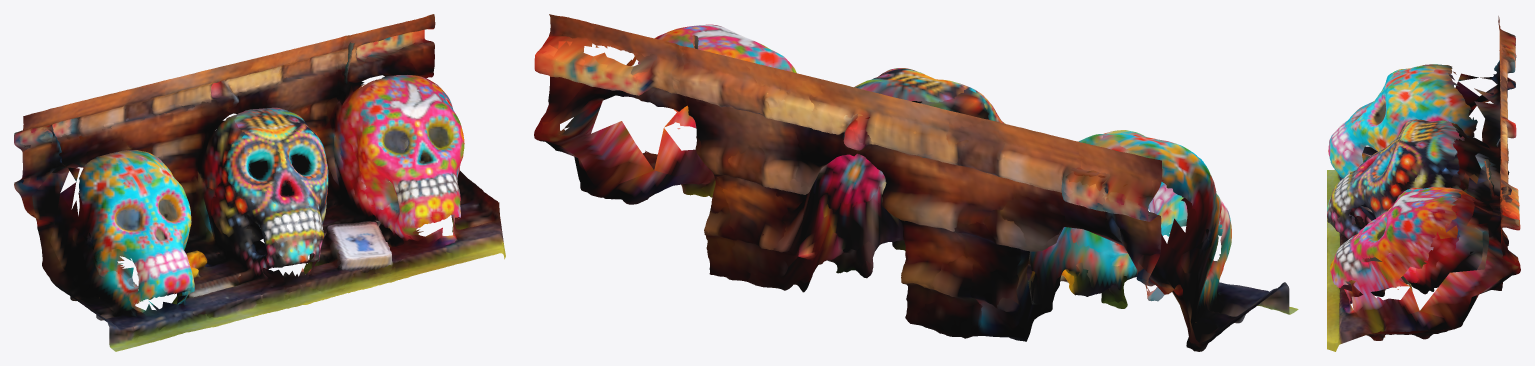
The model's file is calaveras.glb.
The picture shows the model from 3 angles, left to right: view 1: azimuth 30°, elevation 25°; view 2: azimuth 150°, elevation 25°; view 3: azimuth 270°, elevation 25°; orthographic projection. The views are drawn at different scales.
Parts seen in each view (by area): view 1: Object_3, Object_2, Object_4; view 2: Object_3, Object_2, Object_4; view 3: Object_3, Object_2, Object_4.
Boxes of the visible parts, box(x1,y1,x2,y2) form: Object_3: box(14, 16, 502, 350); Object_2: box(14, 14, 505, 351); Object_4: box(276, 36, 391, 282); Object_3: box(534, 16, 1295, 351); Object_2: box(534, 14, 1298, 347); Object_4: box(679, 46, 773, 119); Object_3: box(1327, 16, 1520, 342); Object_2: box(1327, 36, 1520, 351); Object_4: box(1500, 143, 1508, 187).
Size of the model in its own units: 0.6482 by 0.2578 by 0.2843.
Materials: 1 (1 with a texture image).
